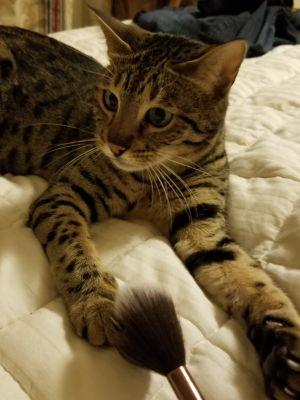bengal: (70, 1, 253, 181)
